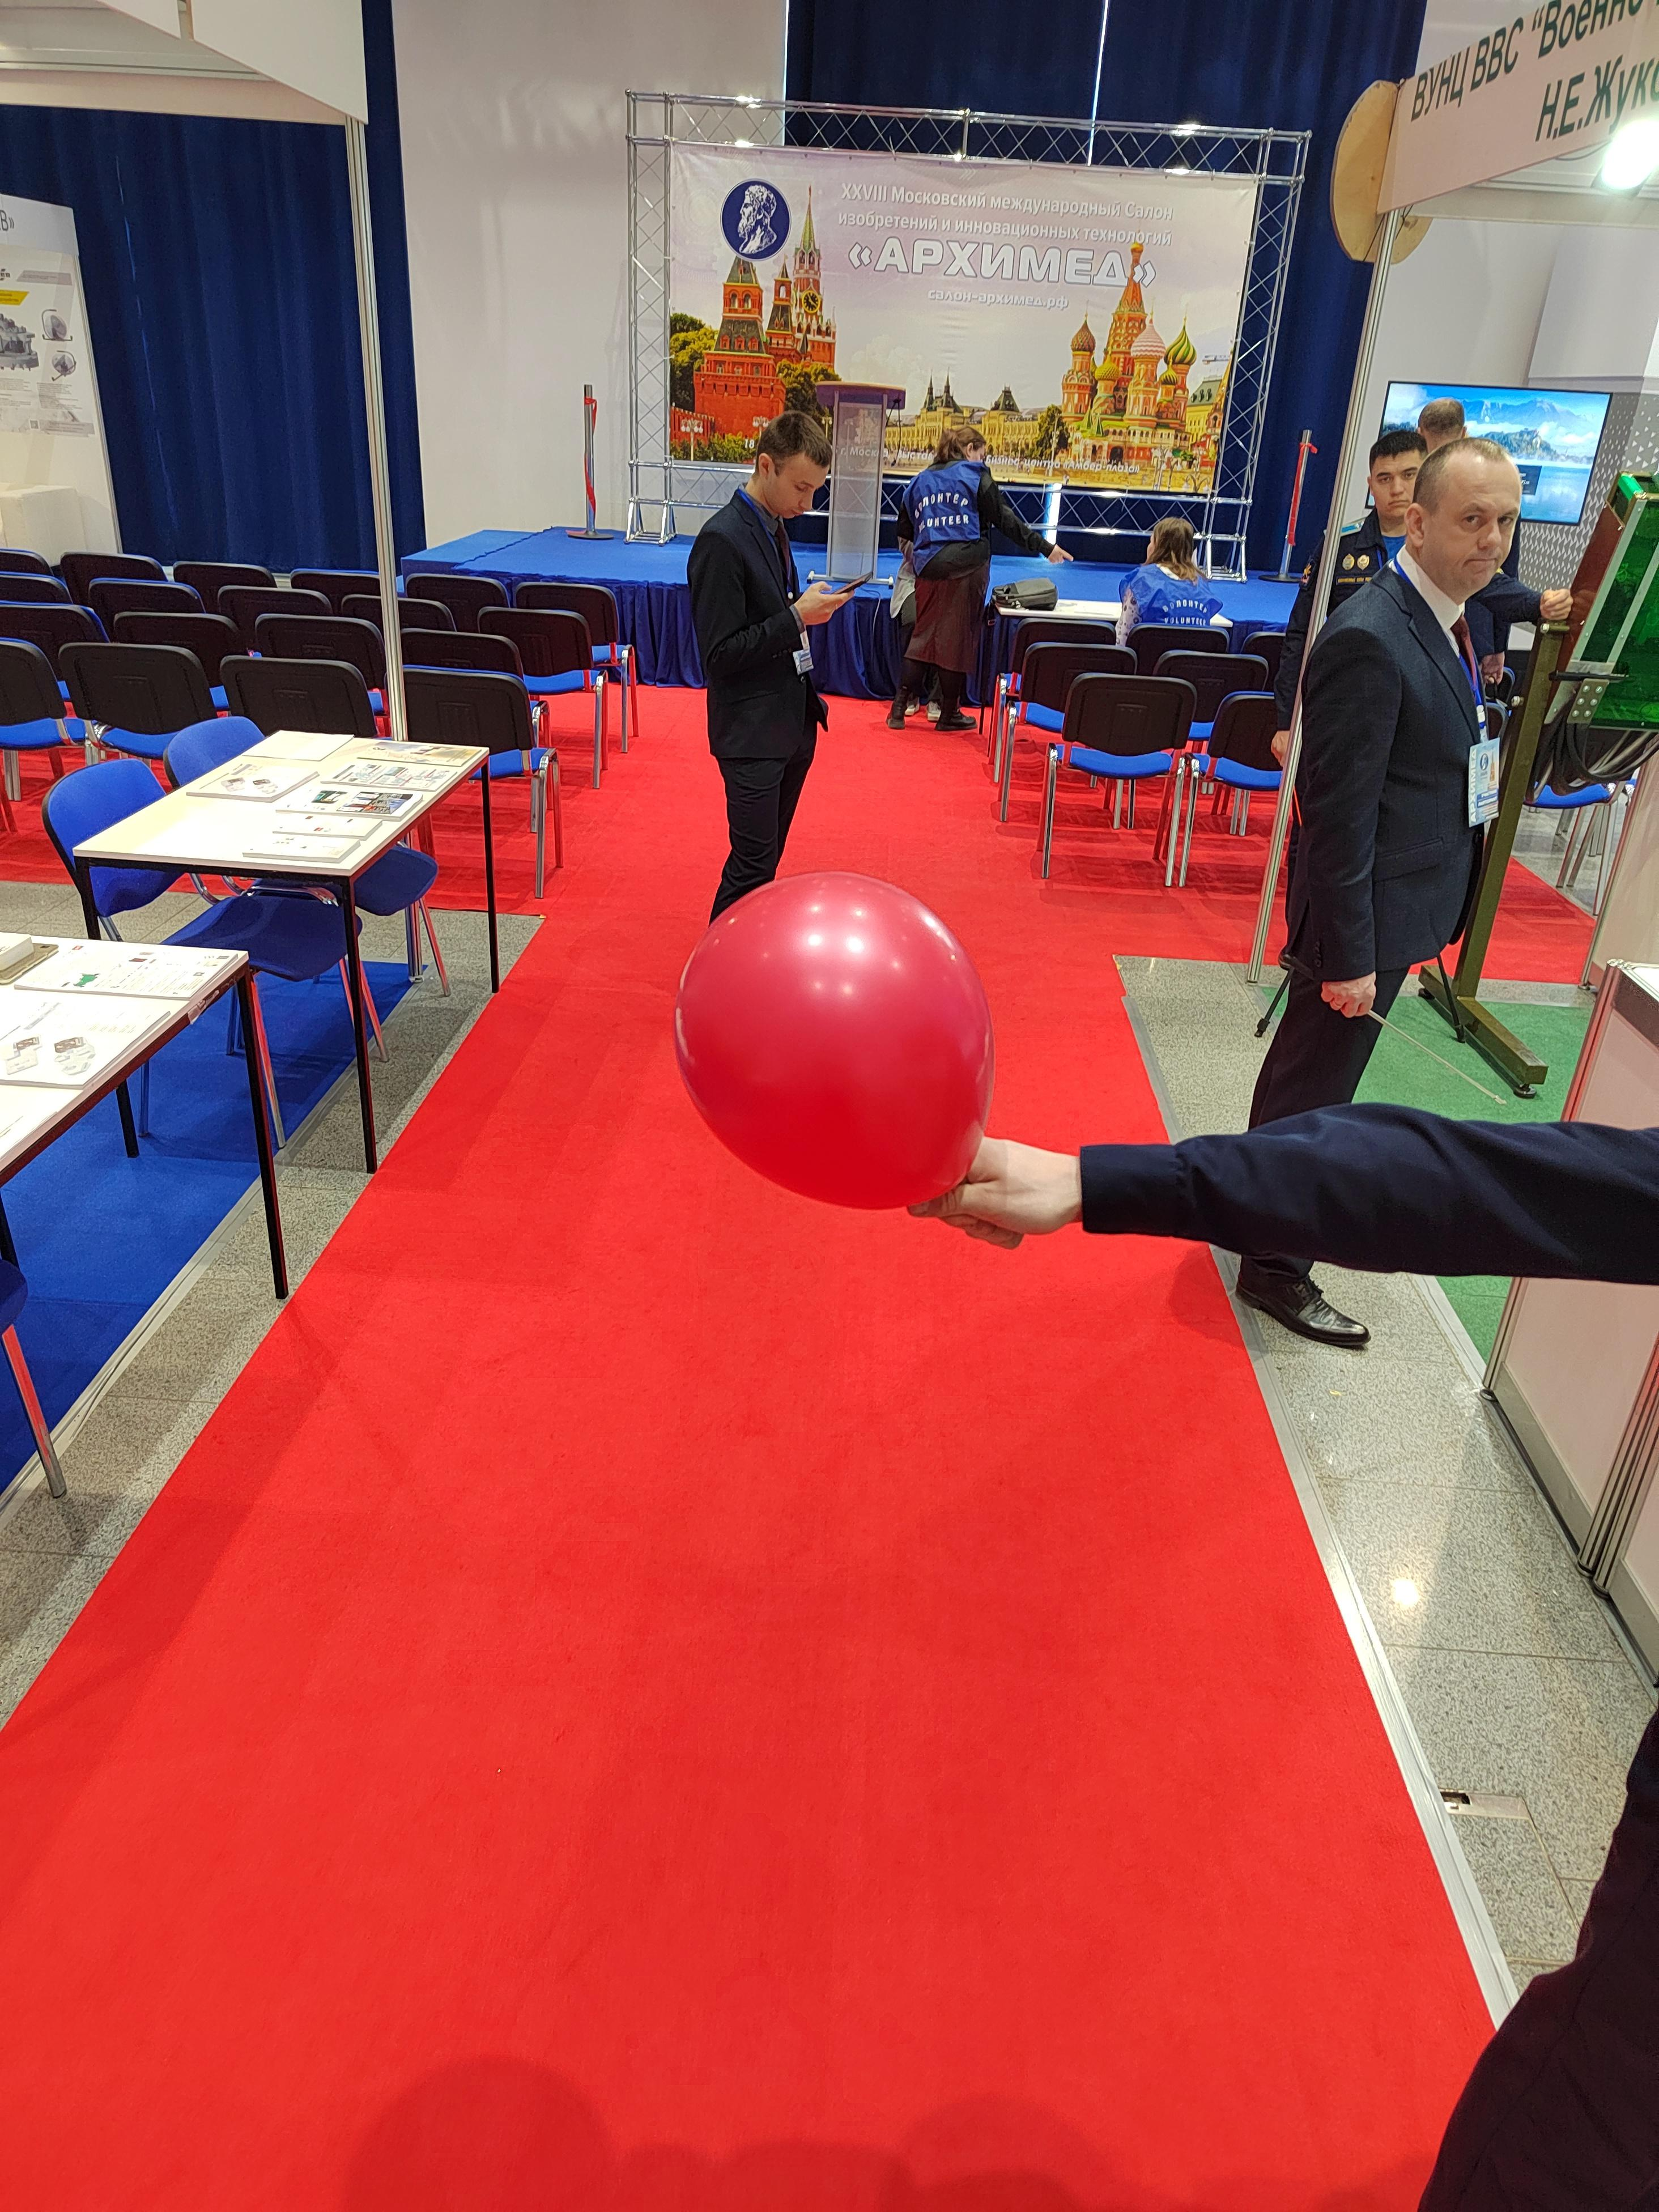red: (662, 874, 993, 1211)
